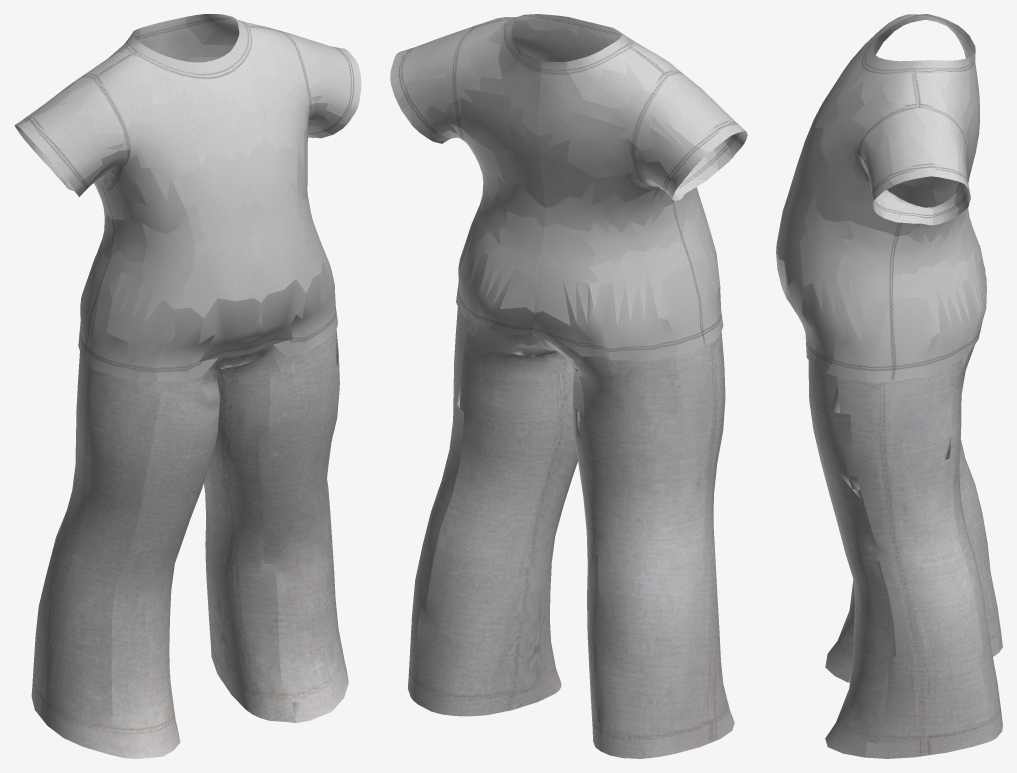
Rendered from kidRomper.glb.
3 views of the same model, side by side, from view 1: azimuth 30°, elevation 25°; view 2: azimuth 150°, elevation 25°; view 3: azimuth 270°, elevation 25° (orthographic). The views are drawn at different scales.
Visible parts, largest first — view 1: KidRomper; view 2: KidRomper; view 3: KidRomper.
Part boxes in pixels (bbox=[...]): KidRomper: bbox=[14, 14, 361, 758]; KidRomper: bbox=[390, 14, 747, 758]; KidRomper: bbox=[776, 14, 1002, 758].
Size of the model in its own units: 9.1 by 17.99 by 5.55.
1 material, 1 textured.
